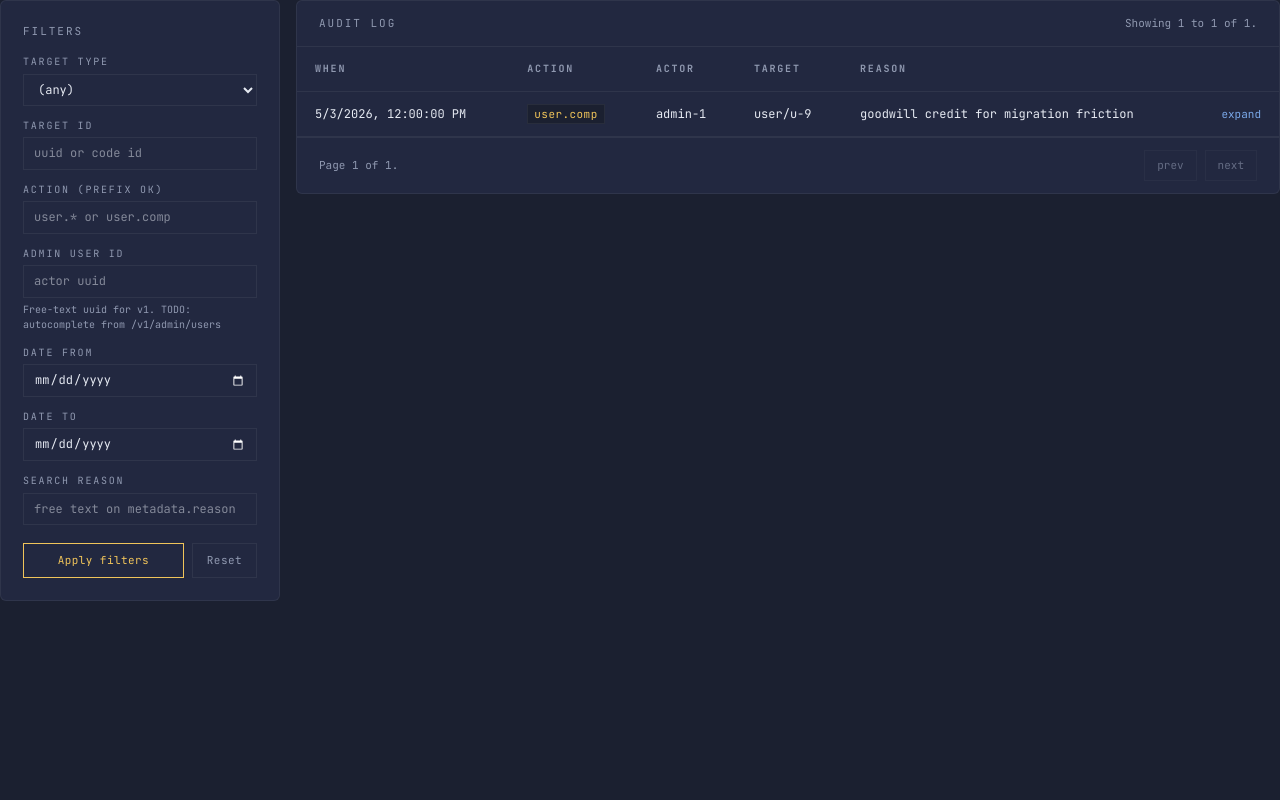
Test: AuditLog page › expand button reveals before/after JSON blocks
Click the button with aria-label "expand details": (1241, 114) [1221,106,1261,122]
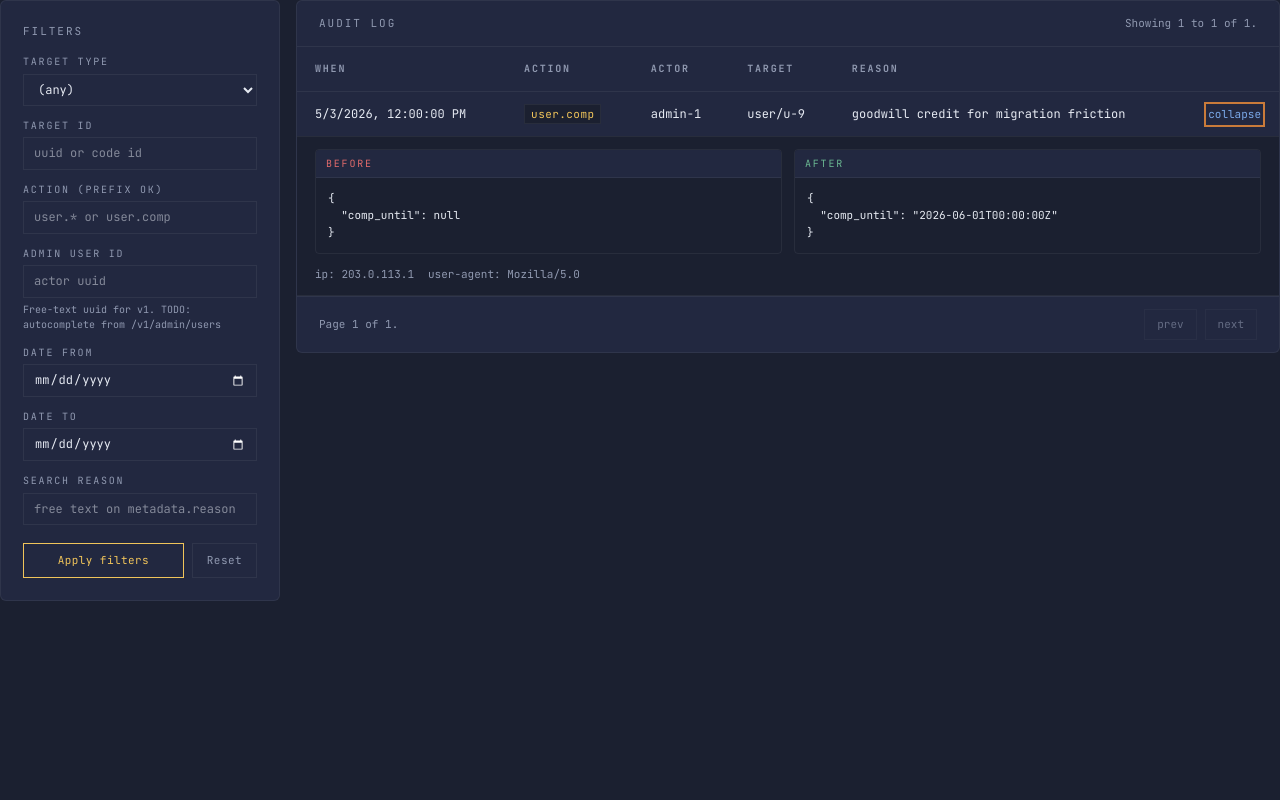
Expected: the text "Before" is shown, [316,150,781,178]
Expected: the text "After" is shown, [795,150,1260,178]
Expected: the text "{ \"comp_until\": \"2026-06-01T00:00:00Z\" }" is shown, [807,191,1058,239]
